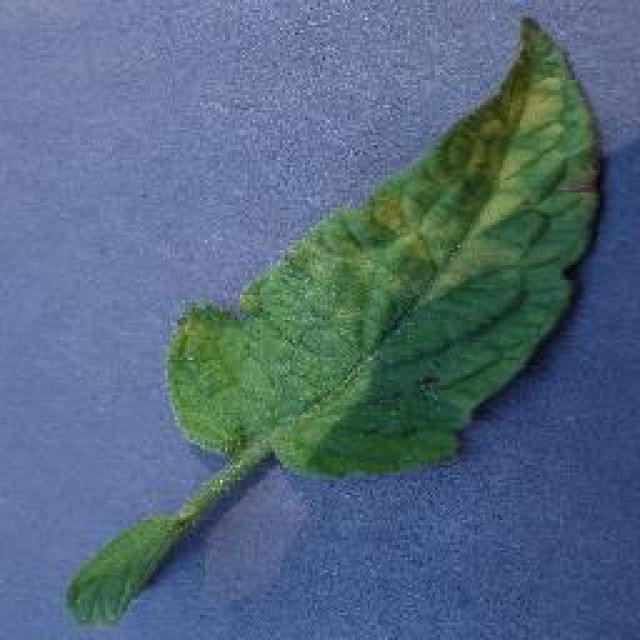Tomato mold leaf: (161, 16, 609, 482)
